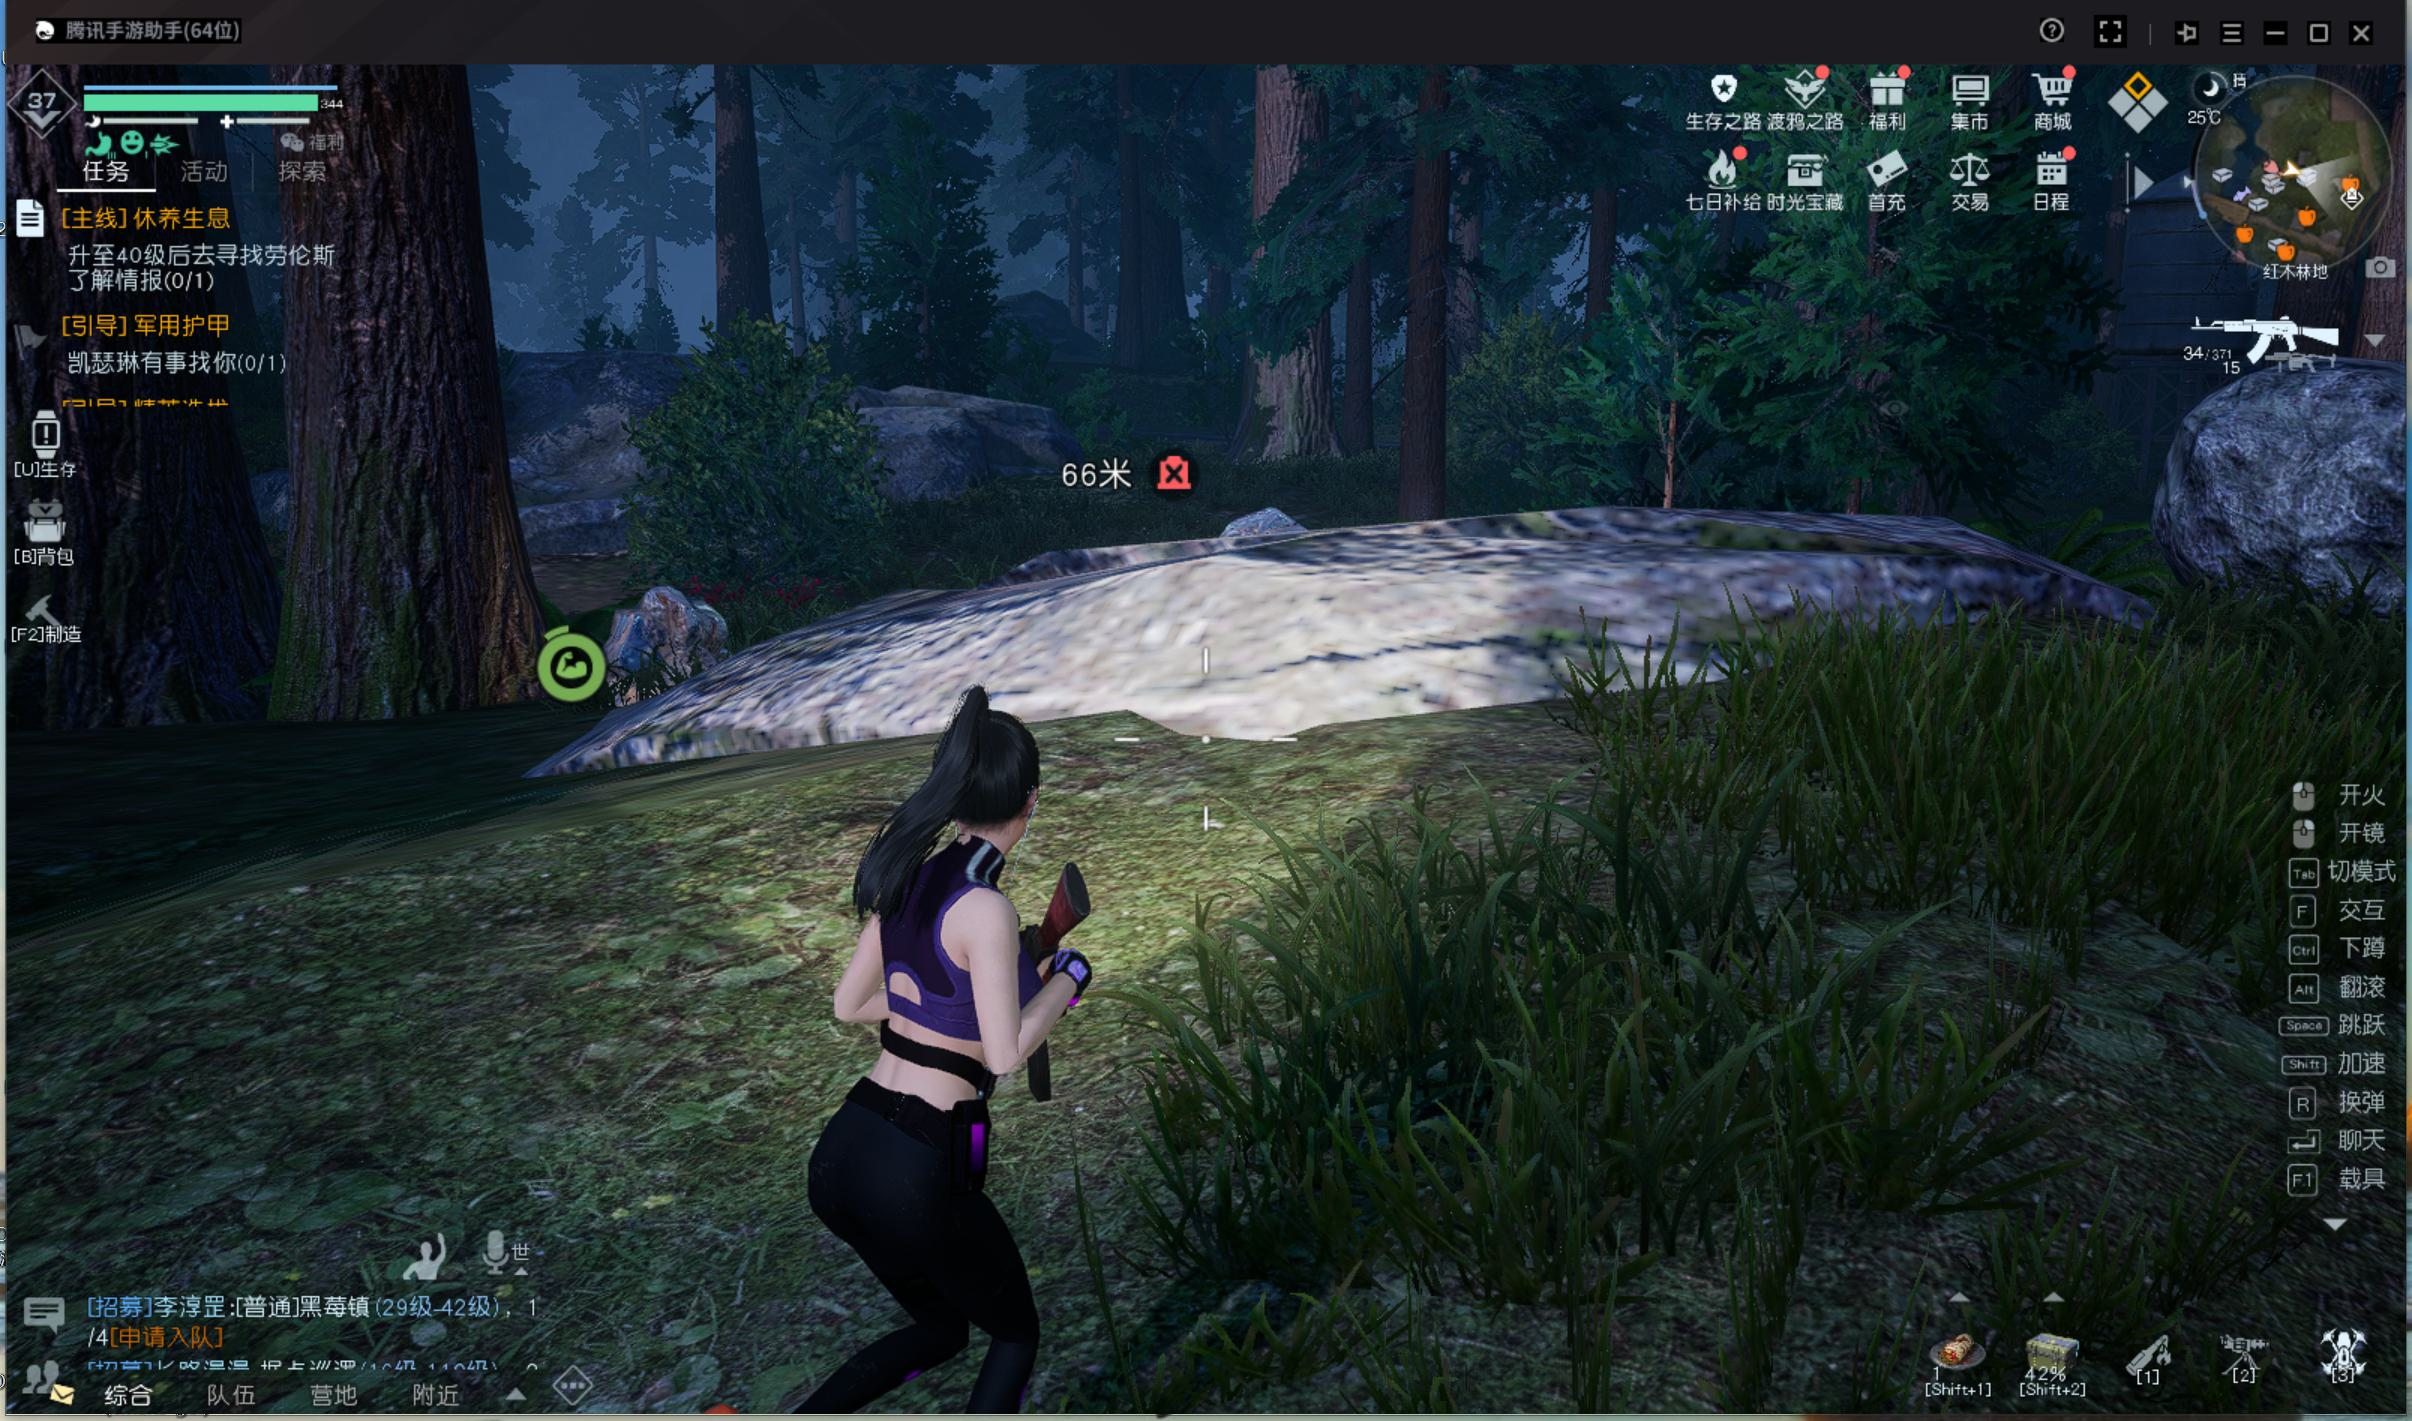stone: (594, 535, 736, 732)
tree: (250, 139, 531, 741), (700, 81, 783, 406)
